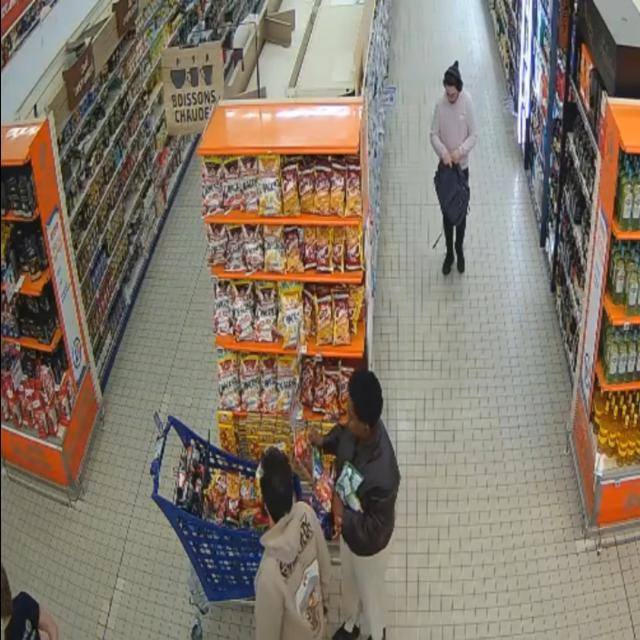article: (338, 468, 364, 512), (311, 471, 334, 513), (335, 461, 364, 490), (294, 432, 313, 466), (335, 485, 346, 505)
bags: (435, 163, 469, 226)
hands: (332, 493, 344, 519), (310, 428, 323, 447), (442, 152, 452, 167), (451, 149, 461, 164)
person: (315, 371, 400, 639), (256, 448, 330, 639), (431, 62, 477, 179), (1, 565, 58, 639)
